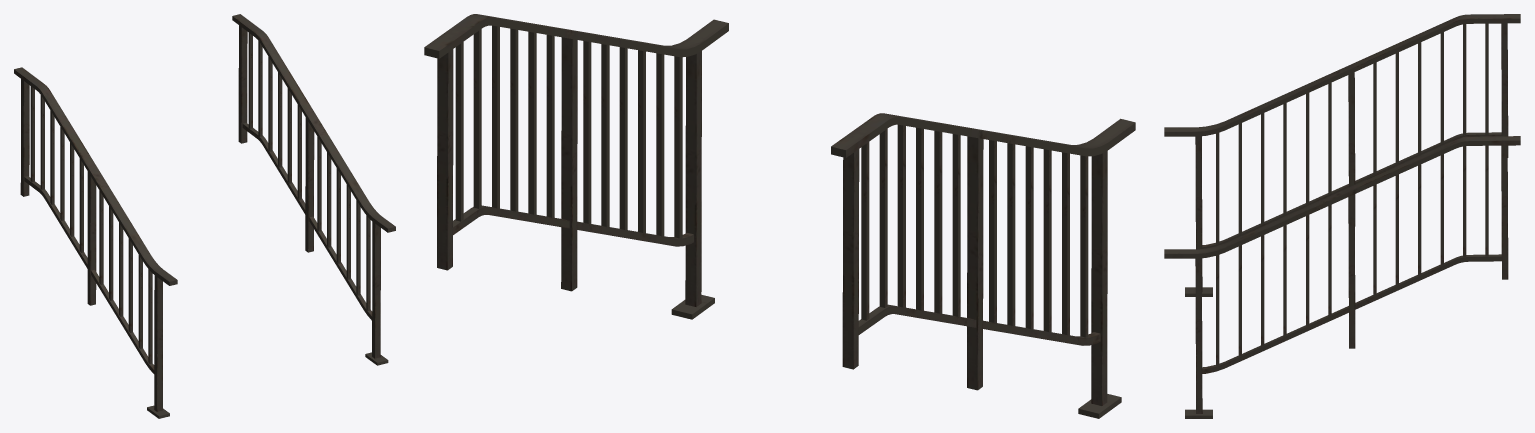
File: Stairs_Rails_Metal.glb
The picture shows the model from 3 angles, left to right: view 1: azimuth 30°, elevation 25°; view 2: azimuth 150°, elevation 25°; view 3: azimuth 270°, elevation 25°; orthographic projection. The views are drawn at different scales.
Visible parts, largest first — view 1: Stairs_Rails_Metal; view 2: Stairs_Rails_Metal; view 3: Stairs_Rails_Metal.
Part boxes in pixels (x1=…): Stairs_Rails_Metal: x1=14, y1=14, x2=395, y2=418; Stairs_Rails_Metal: x1=424, y1=14, x2=1135, y2=418; Stairs_Rails_Metal: x1=1164, y1=14, x2=1520, y2=418.
Bounding box in the file's own units: 1.96 × 1.98 × 2.31.
Materials: 1 (1 with a texture image).
